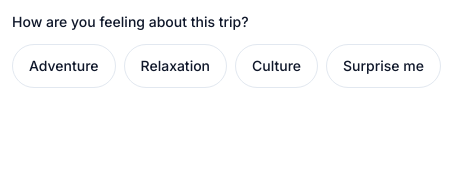
SlotFillingCard — selection and auto-advance (AC2) › check icon visible on selected chip
What coordinates should you click on to do the following:
click the radio button labelled "Adventure"
I would click on:
 (64, 66)
Its box is [12,44,116,88].
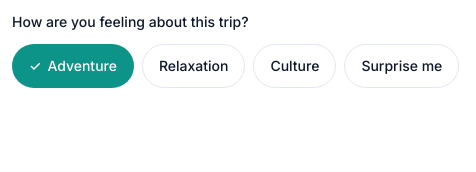
Now the text "✓" is shown, box [29,56,41,76]
